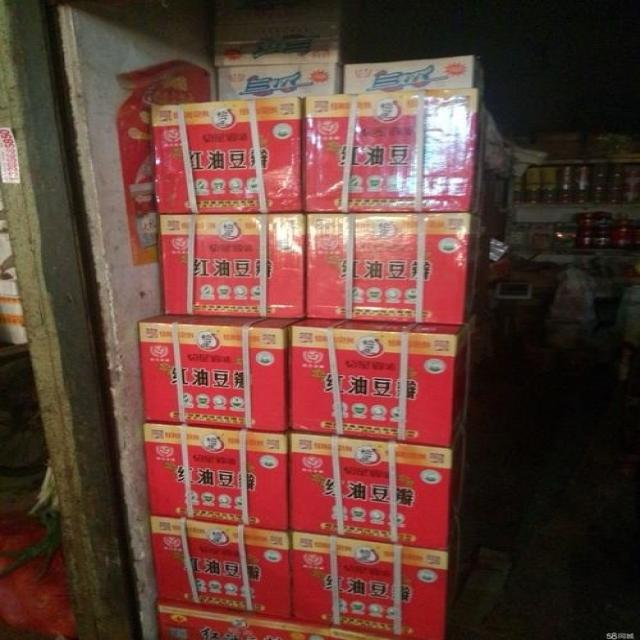box: (287, 315, 473, 448), (287, 423, 467, 550), (307, 91, 488, 213), (305, 212, 479, 327), (137, 315, 305, 434), (147, 98, 306, 217), (288, 531, 461, 640), (142, 421, 287, 531), (150, 514, 293, 625), (157, 214, 305, 320), (216, 7, 343, 68), (342, 55, 486, 102), (217, 64, 342, 101), (159, 607, 292, 639), (292, 625, 360, 639)
